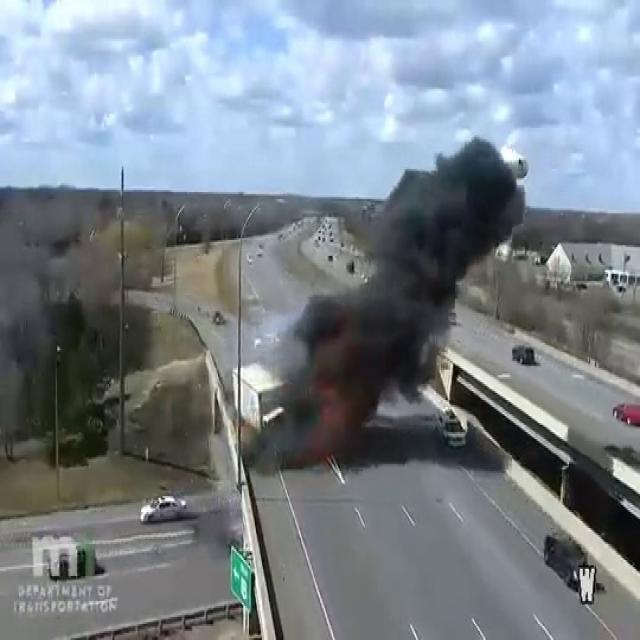Smoke: (268, 124, 531, 450), (0, 148, 68, 454)
